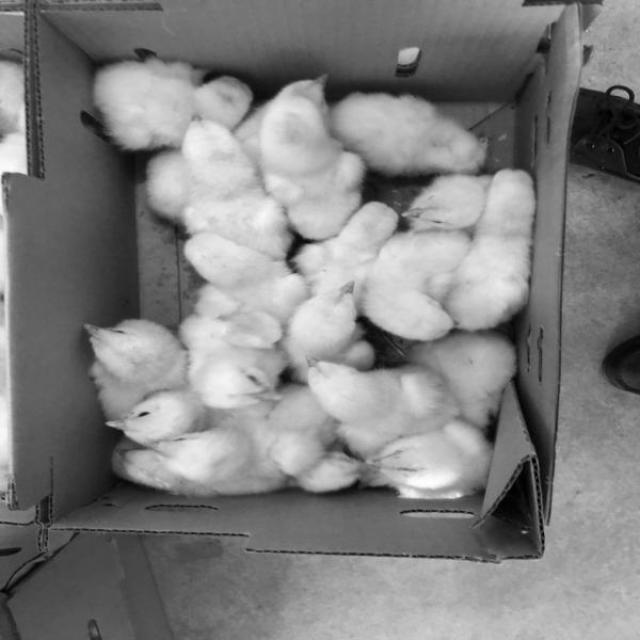poussin: (138, 76, 330, 224), (246, 75, 374, 228), (172, 103, 294, 249), (92, 58, 258, 165), (442, 171, 538, 331), (298, 356, 464, 442), (220, 411, 361, 494), (330, 96, 486, 171), (293, 202, 395, 302), (364, 232, 458, 338), (188, 242, 294, 331), (362, 422, 484, 496), (417, 324, 512, 418), (75, 319, 186, 399), (272, 286, 368, 369), (182, 328, 284, 404), (145, 438, 281, 494), (396, 176, 492, 240), (105, 389, 208, 447)
